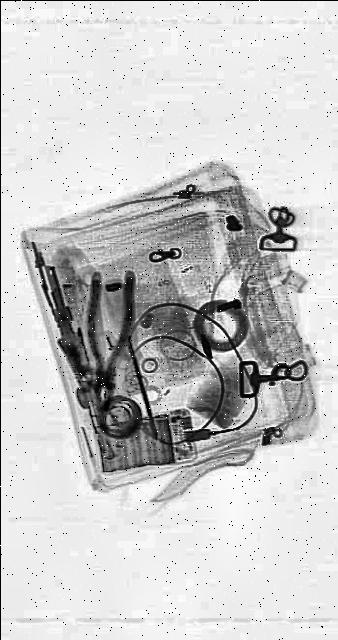Pliers: (78, 265, 134, 429)
